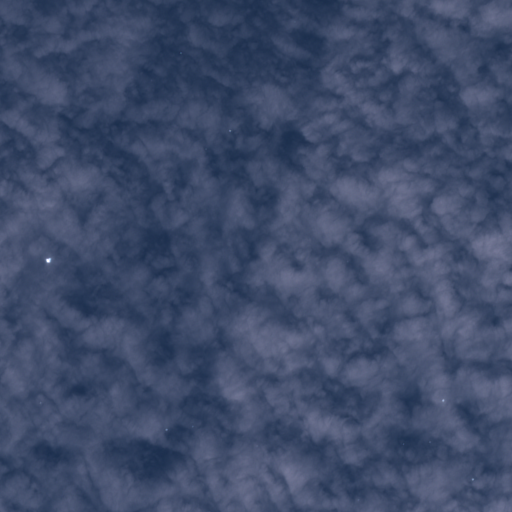Iceberg: (46, 258, 50, 262), (442, 399, 444, 401), (165, 428, 167, 430), (472, 478, 473, 480), (180, 52, 181, 53), (229, 130, 230, 131)
